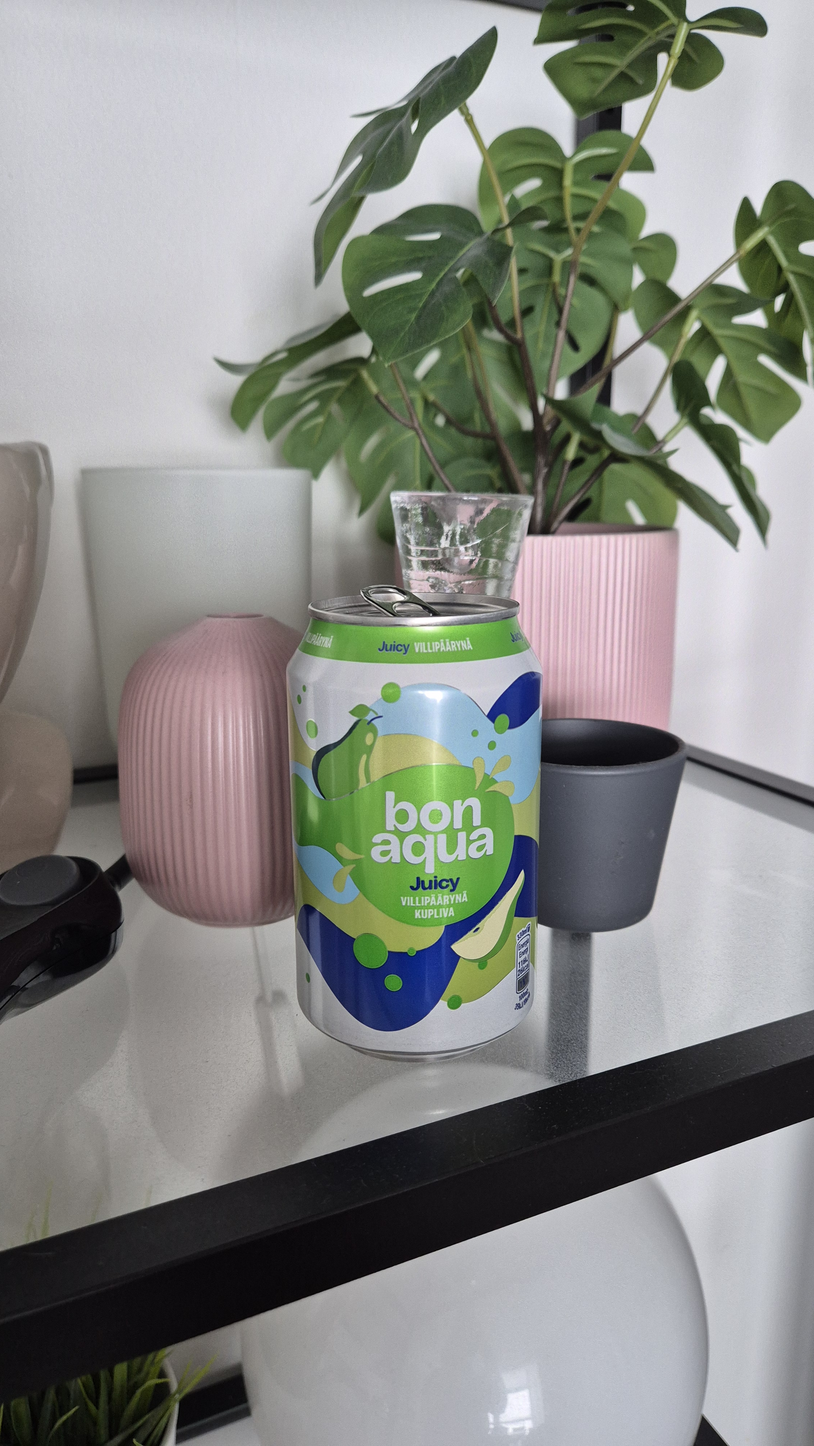Pantburk: (287, 586, 543, 1063)
